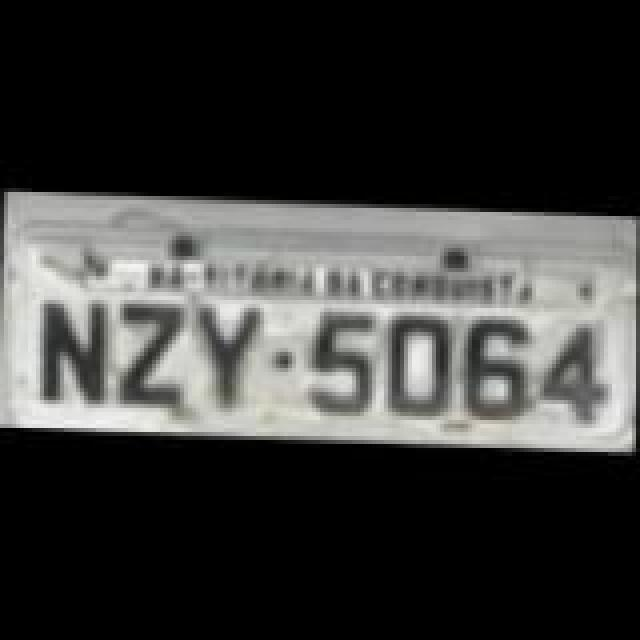4: (536, 304, 608, 424)
5: (304, 304, 376, 420)
6: (456, 304, 528, 416)
N: (38, 290, 106, 406)
O: (380, 306, 444, 410)
Y: (192, 294, 264, 406)
Z: (112, 292, 184, 408)
